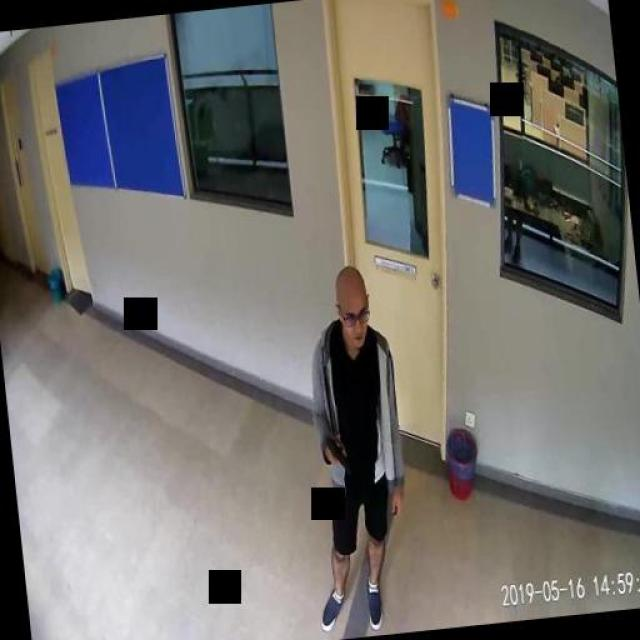gun: (325, 433, 350, 475)
